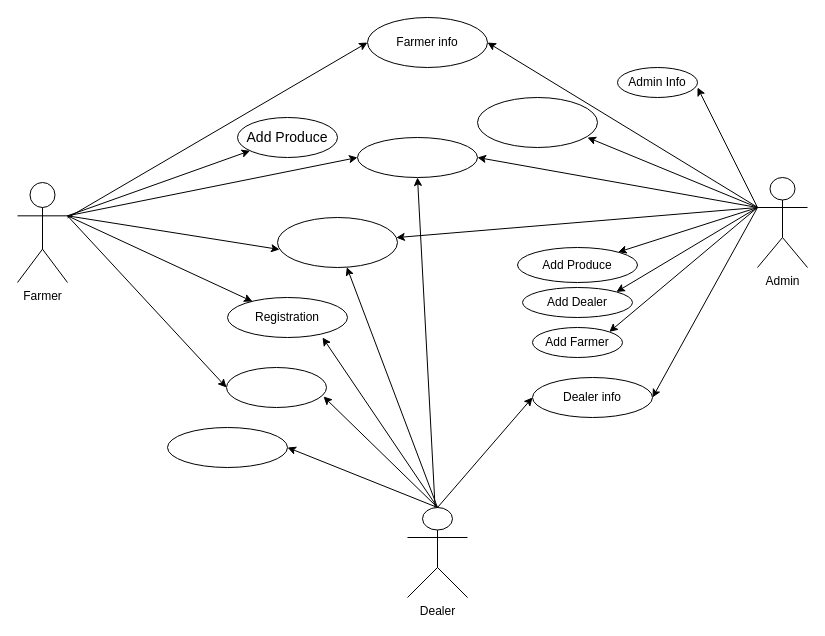
This 825x636 diagram has some shape labels left out. Here are the shapes that lost their labels. From the top down, the centre of each, then its label:
point 537,122: Updated Market Price
point 417,157: View Item
point 337,242: Admin Approval
point 276,387: Confirmation
point 227,447: Make Purchase
